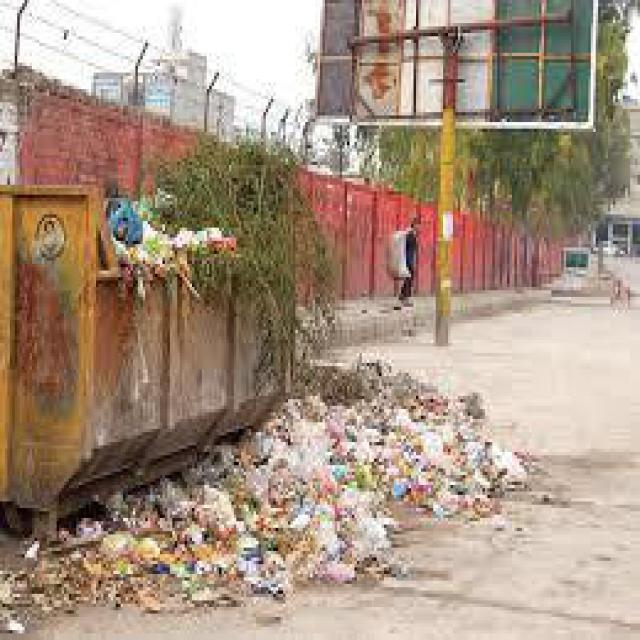garbage: (253, 386, 504, 528), (44, 524, 387, 584), (104, 195, 222, 264), (162, 458, 276, 528)
